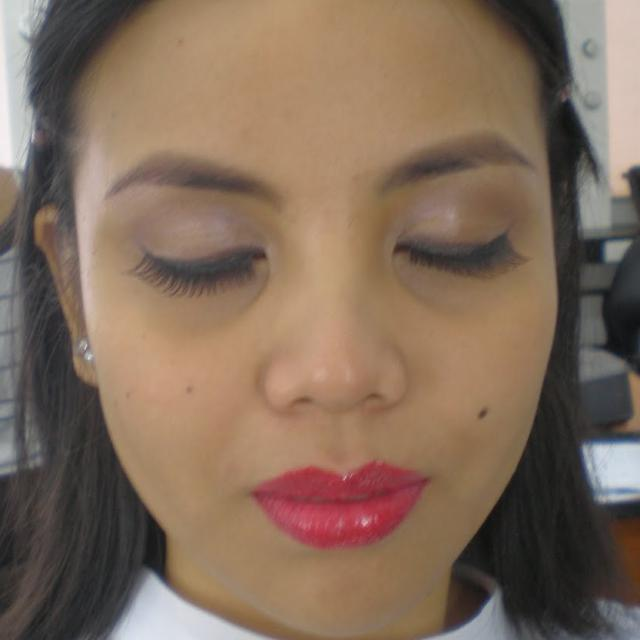close: (101, 139, 286, 309), (375, 124, 547, 295)
